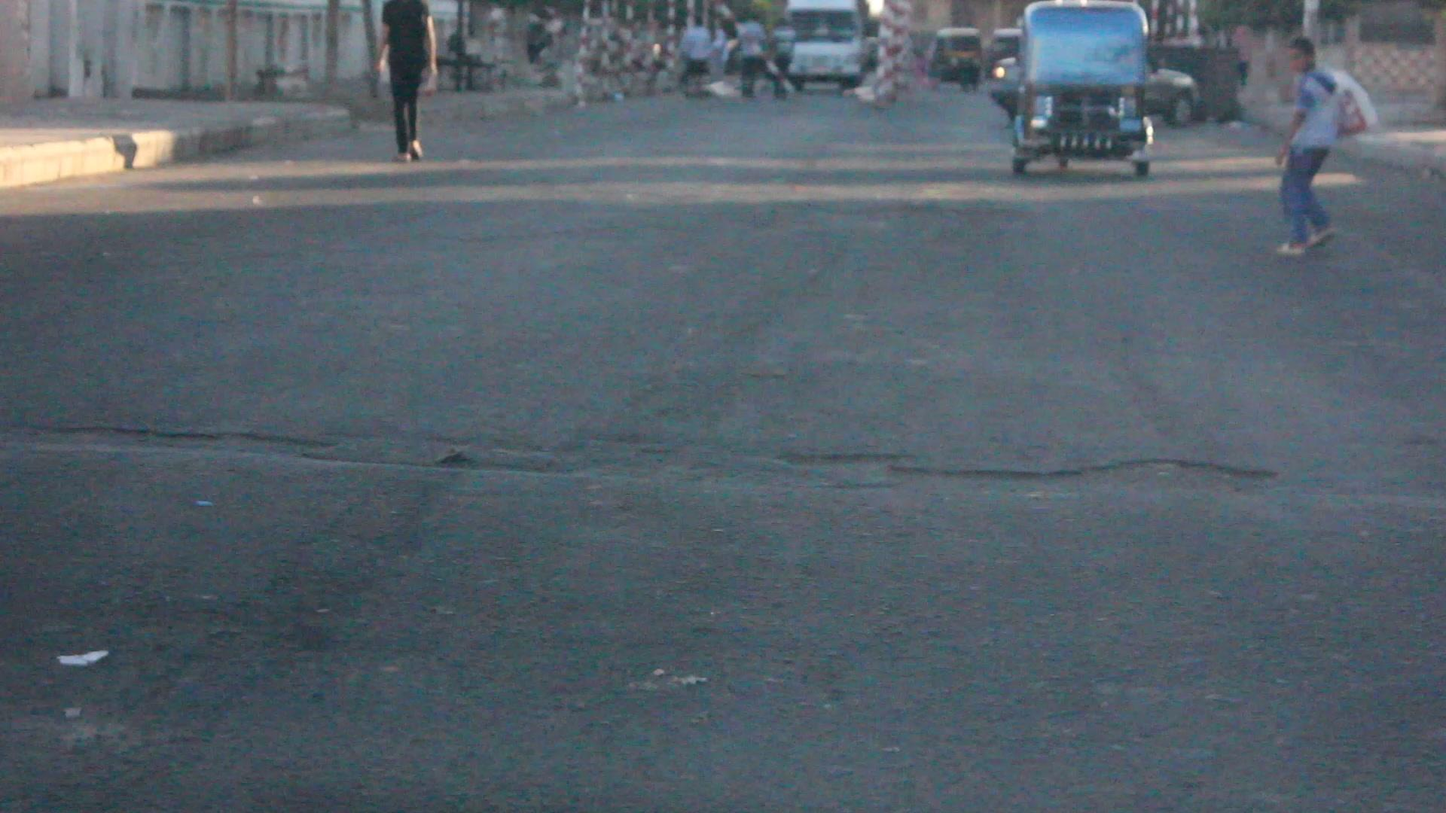Bump: (13, 474, 1446, 666)
Pothole: (24, 403, 1333, 506)
